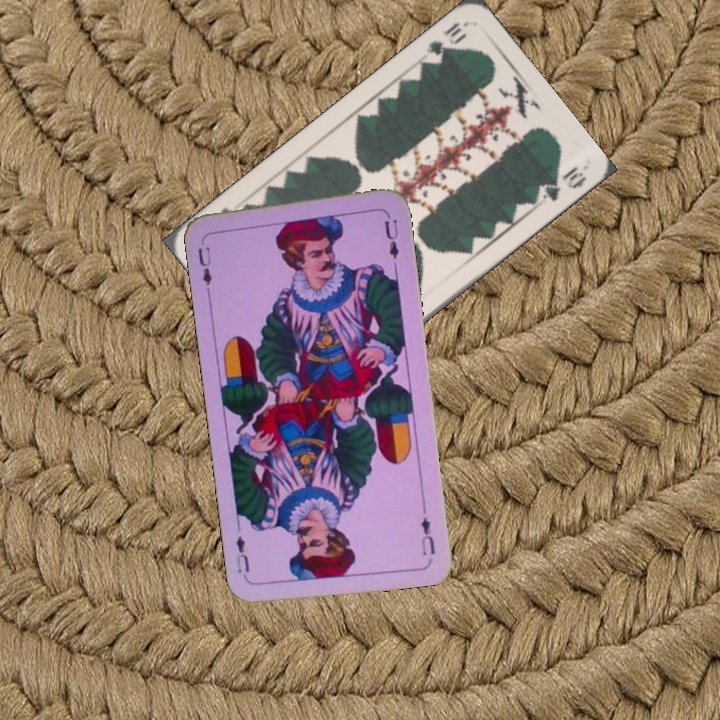EU: (193, 243, 214, 295), (417, 513, 438, 558)
G10: (422, 17, 469, 67)
